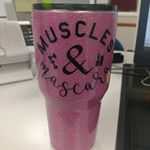other: (28, 1, 120, 150)
